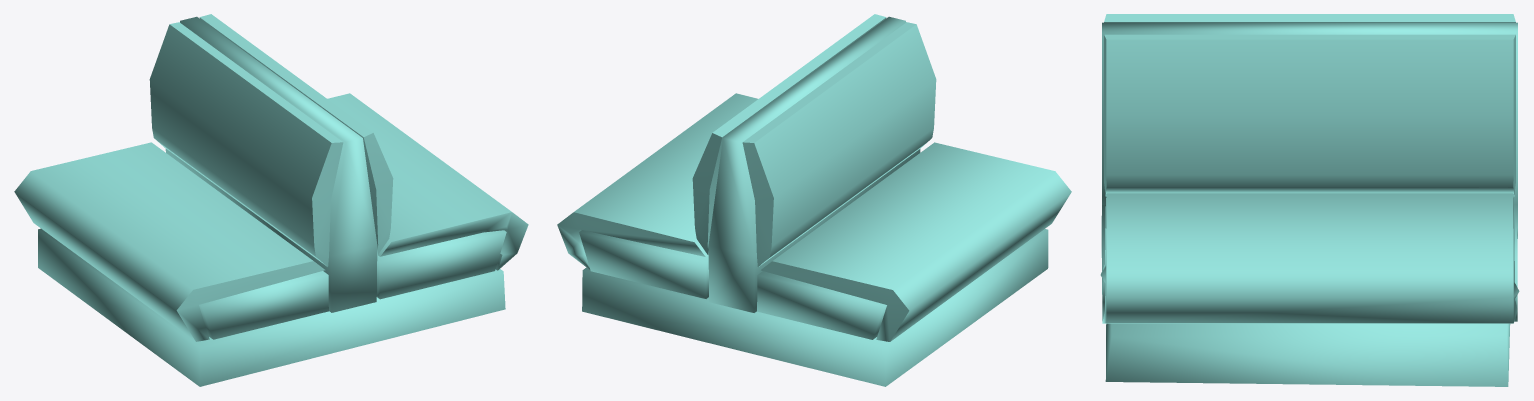
File: DinerTwinChair_Collision.fbx
3 renders of one model, left to right at view 1: azimuth 30°, elevation 25°; view 2: azimuth 150°, elevation 25°; view 3: azimuth 270°, elevation 25°, orthographic. The views are drawn at different scales.
Visible parts, largest first — view 1: DinerTwinChair_Collision; view 2: DinerTwinChair_Collision; view 3: DinerTwinChair_Collision.
Part boxes in pixels (left/top/right/bottom): DinerTwinChair_Collision: left=14, top=14, right=528, bottom=386; DinerTwinChair_Collision: left=557, top=14, right=1071, bottom=386; DinerTwinChair_Collision: left=1100, top=14, right=1519, bottom=386.
Bounding box in the file's own units: 1.76 × 1.01 × 1.44.
